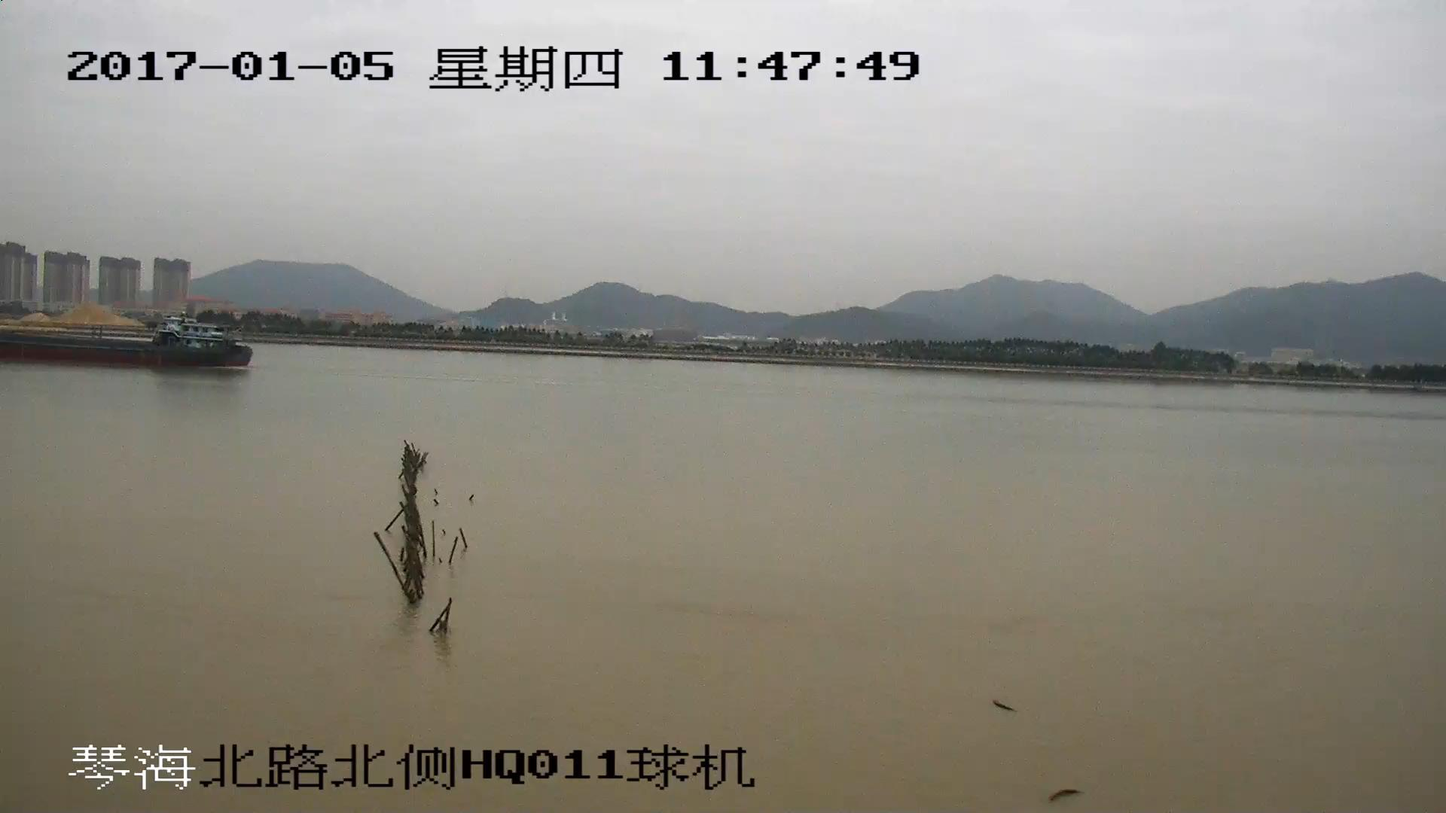bulk cargo carrier: (0, 319, 258, 371)
